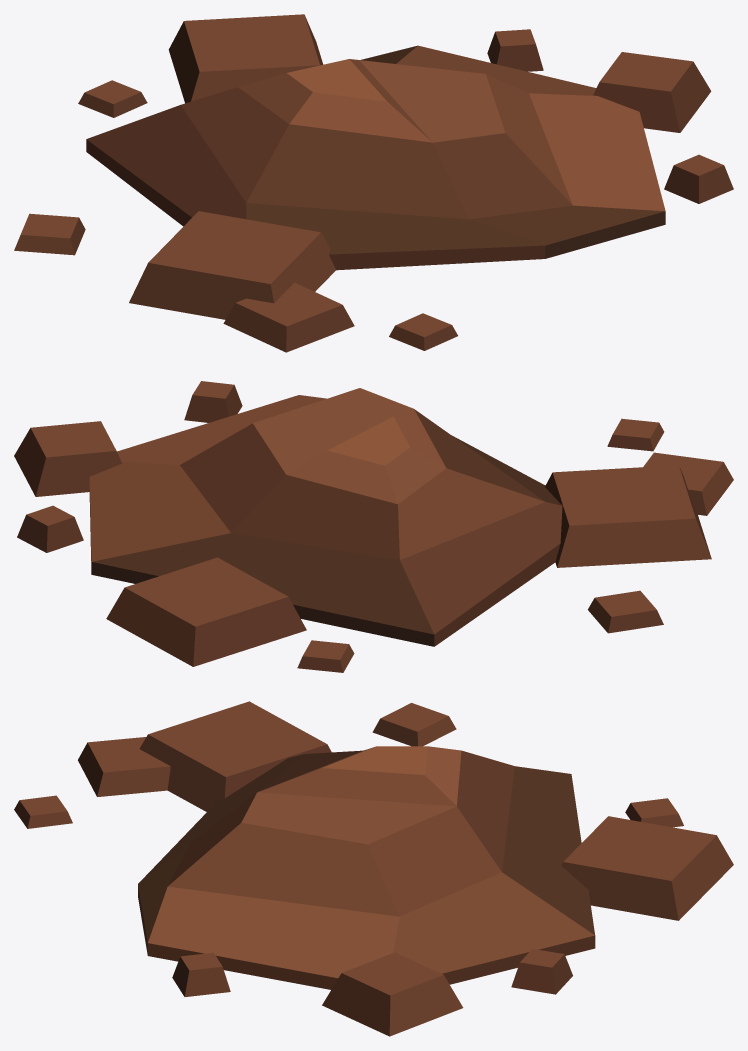
File: SC_Halloween_Dirt.fbx
3 views of the same model, one above another, from view 1: azimuth 30°, elevation 25°; view 2: azimuth 150°, elevation 25°; view 3: azimuth 270°, elevation 25° (orthographic). The views are drawn at different scales.
Parts seen in each view (by area): view 1: SC_Halloween_Dirt; view 2: SC_Halloween_Dirt; view 3: SC_Halloween_Dirt.
Part boxes in pixels (x1,y1,x2,y2): SC_Halloween_Dirt: [14, 14, 733, 352]; SC_Halloween_Dirt: [14, 381, 733, 672]; SC_Halloween_Dirt: [14, 701, 733, 1036].
Size of the model in its own units: 4.45 by 0.6373 by 4.18.
